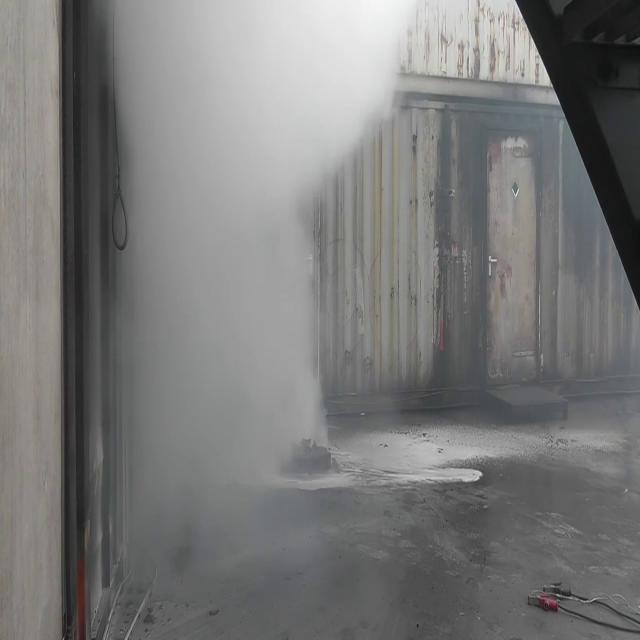Smoke: (100, 5, 333, 638)
